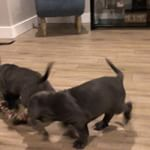puppy: (30, 54, 138, 150)
